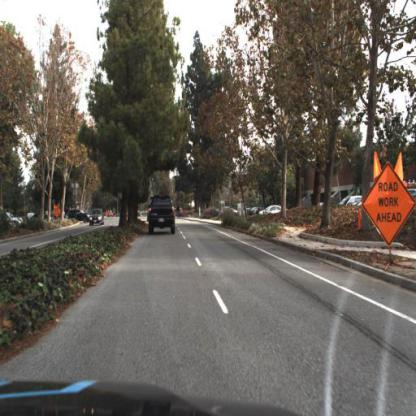car: (147, 193, 178, 236), (89, 206, 106, 229), (69, 210, 91, 224), (91, 209, 105, 229), (345, 196, 362, 210)
